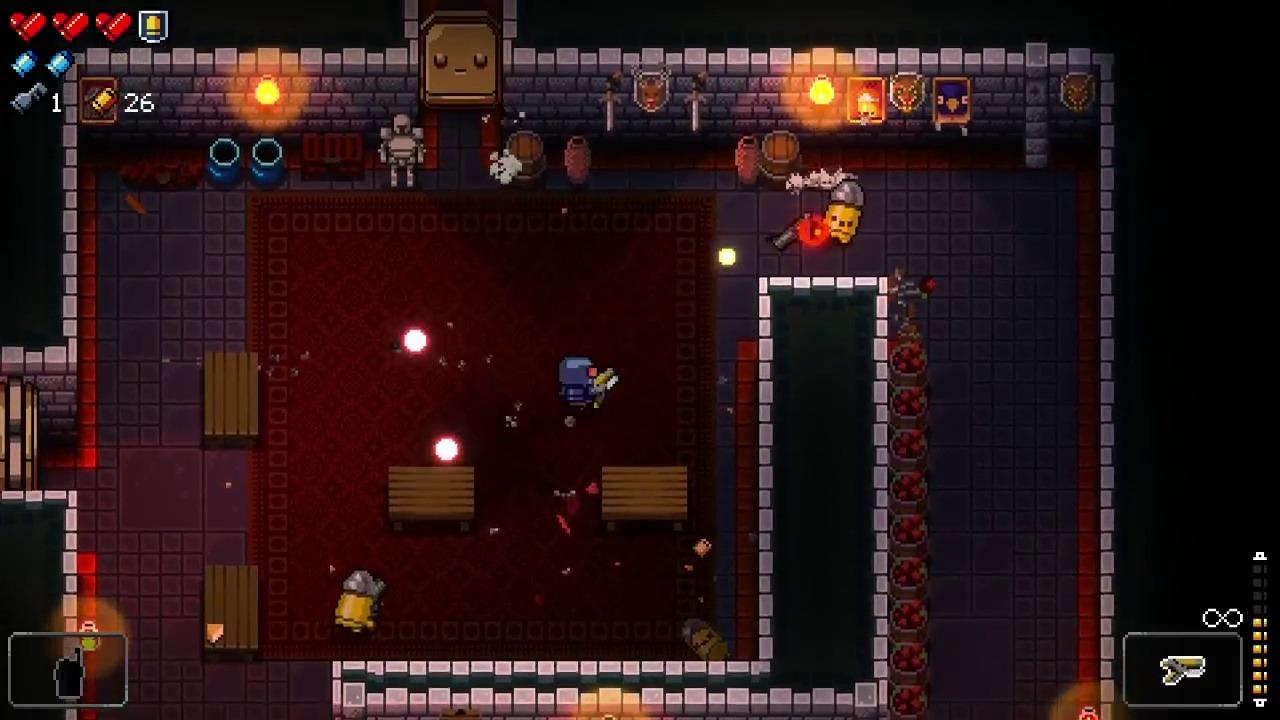bullet: (401, 327, 431, 357), (432, 434, 461, 464)
bullet_kin: (335, 568, 378, 633), (824, 179, 864, 243)
locked_door: (419, 9, 504, 108), (0, 377, 38, 490)
player: (558, 356, 597, 408)
table: (389, 464, 474, 532), (602, 465, 688, 530), (204, 563, 258, 659), (204, 351, 258, 445)
